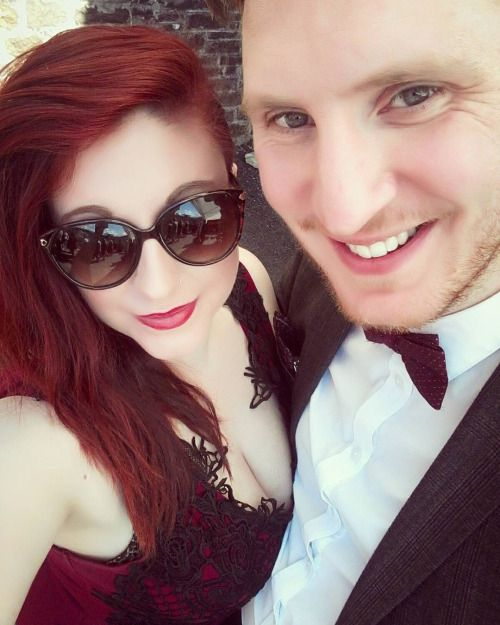sunglasses: (37, 207, 232, 285), (37, 207, 249, 263), (37, 229, 230, 285)
